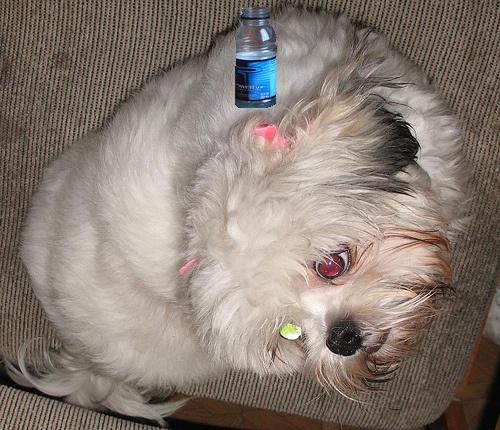tampered: (236, 8, 277, 108)
